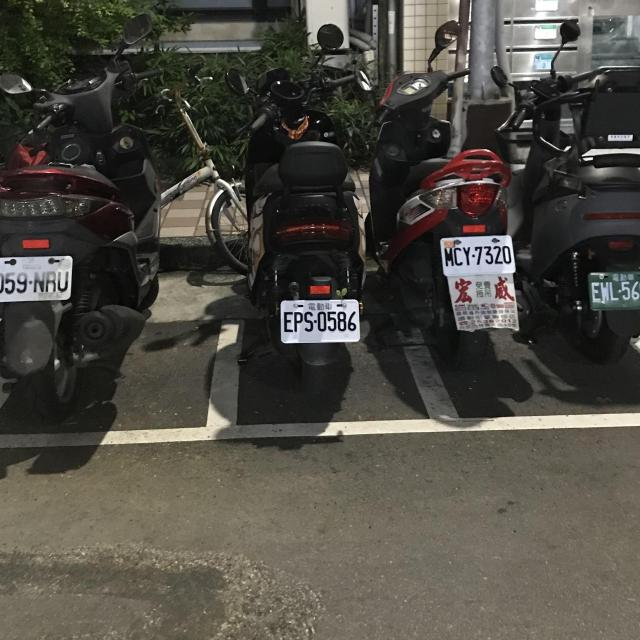W: (277, 296, 362, 345), (435, 232, 519, 278), (0, 253, 75, 303), (582, 264, 640, 316)
